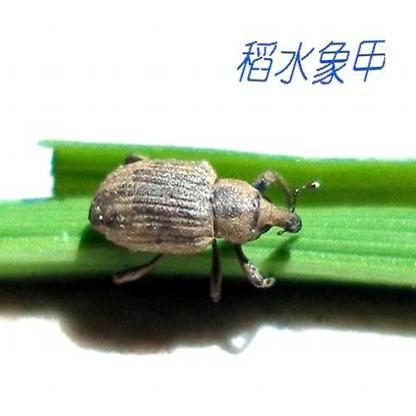rice-bug: (91, 151, 311, 289)
